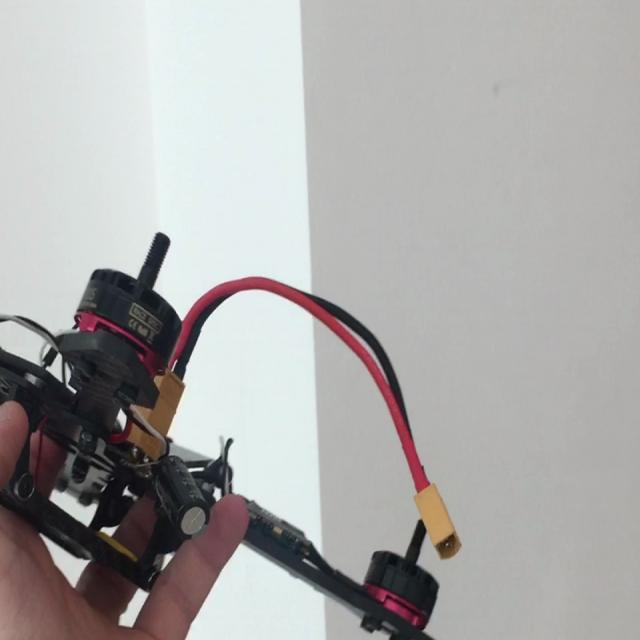drone: (0, 104, 475, 640)
